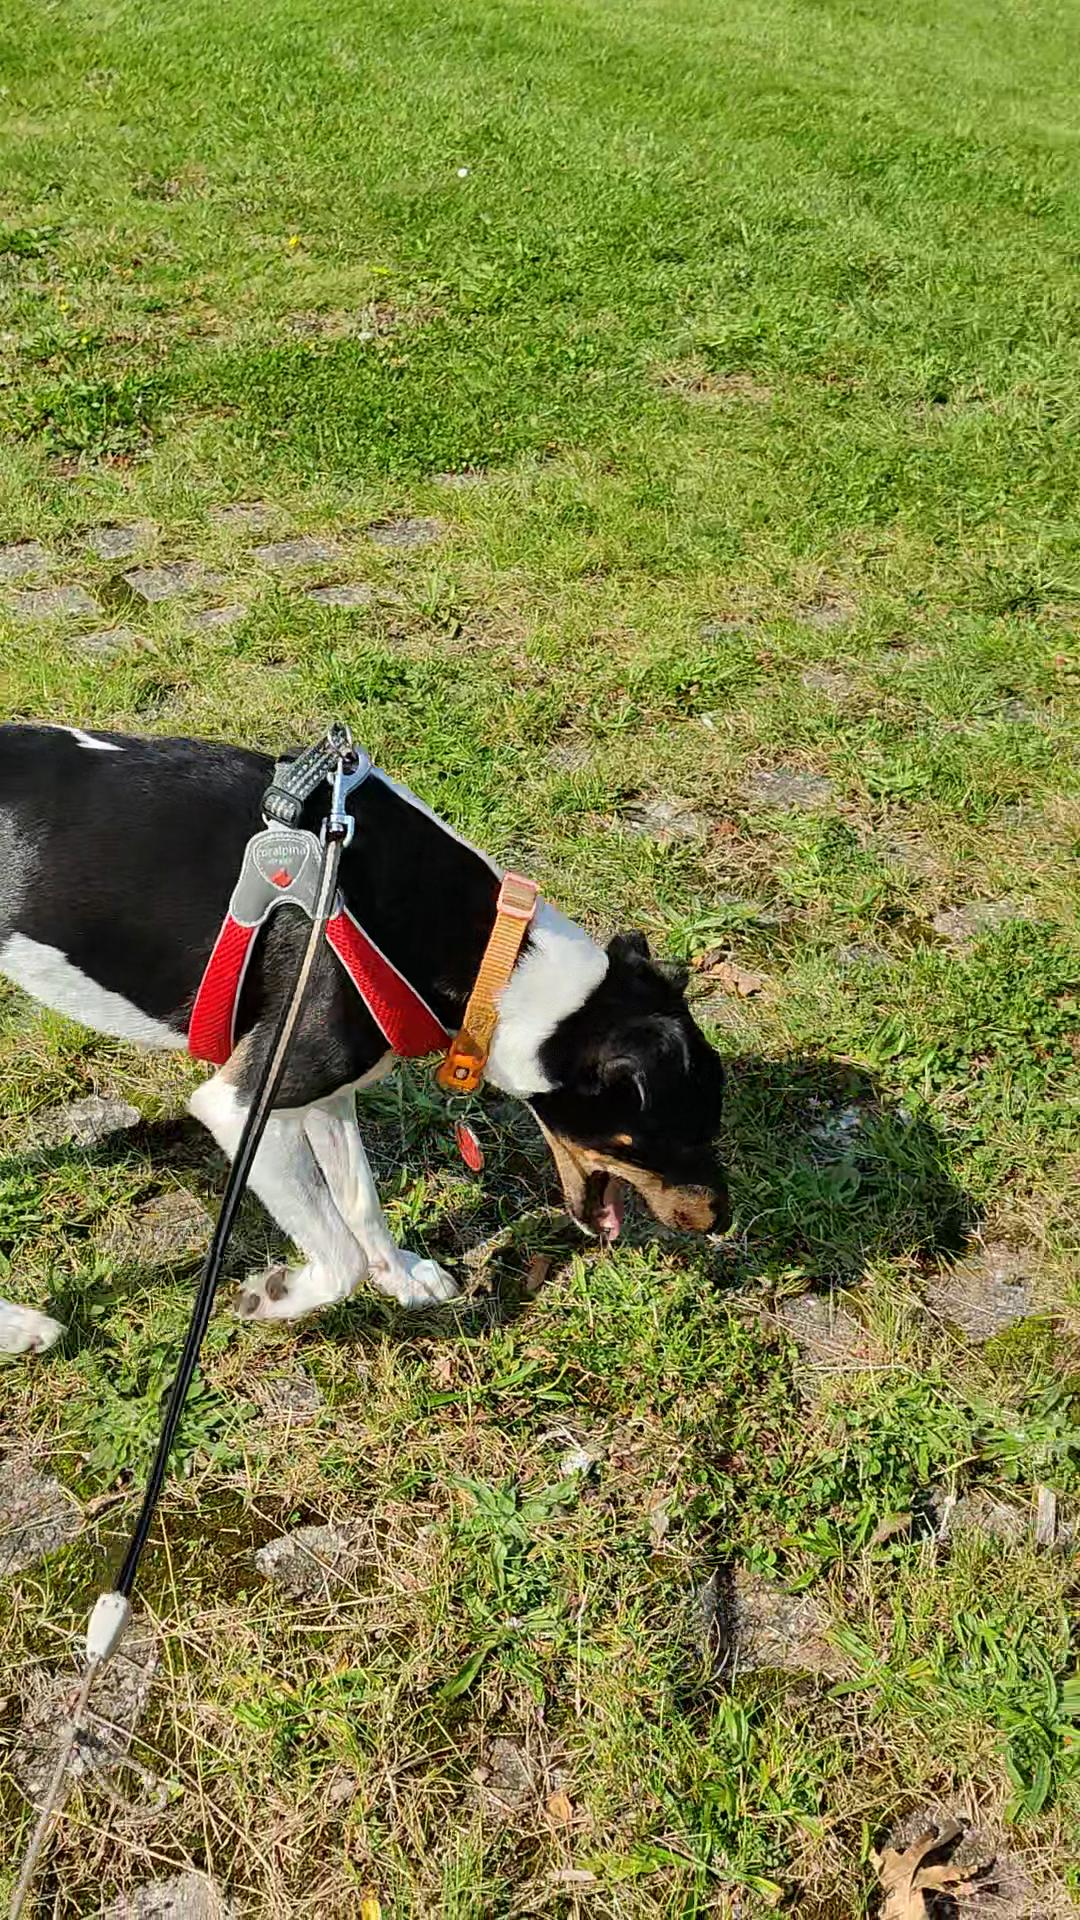Dog: (0, 655, 732, 1374)
